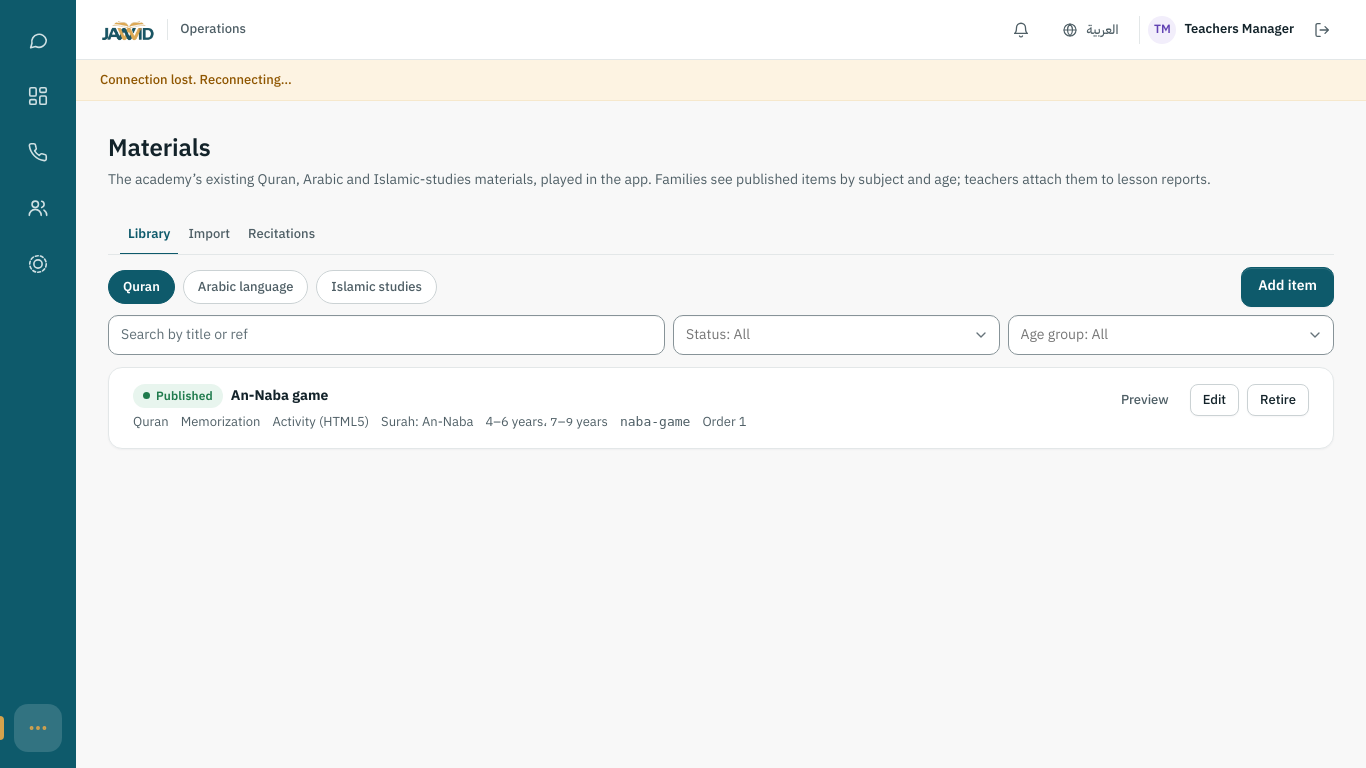
Test: Materials > Library › is offered to the Teachers manager on the server's word, and lists items with status, subject, type and ages
Expected: the heading "Materials" is shown, [108, 130, 211, 166]
Expected: the text "An-Naba game" is shown, [231, 385, 328, 407]
Click the button "Arabic language".
click(246, 287)  # box [183, 270, 308, 304]
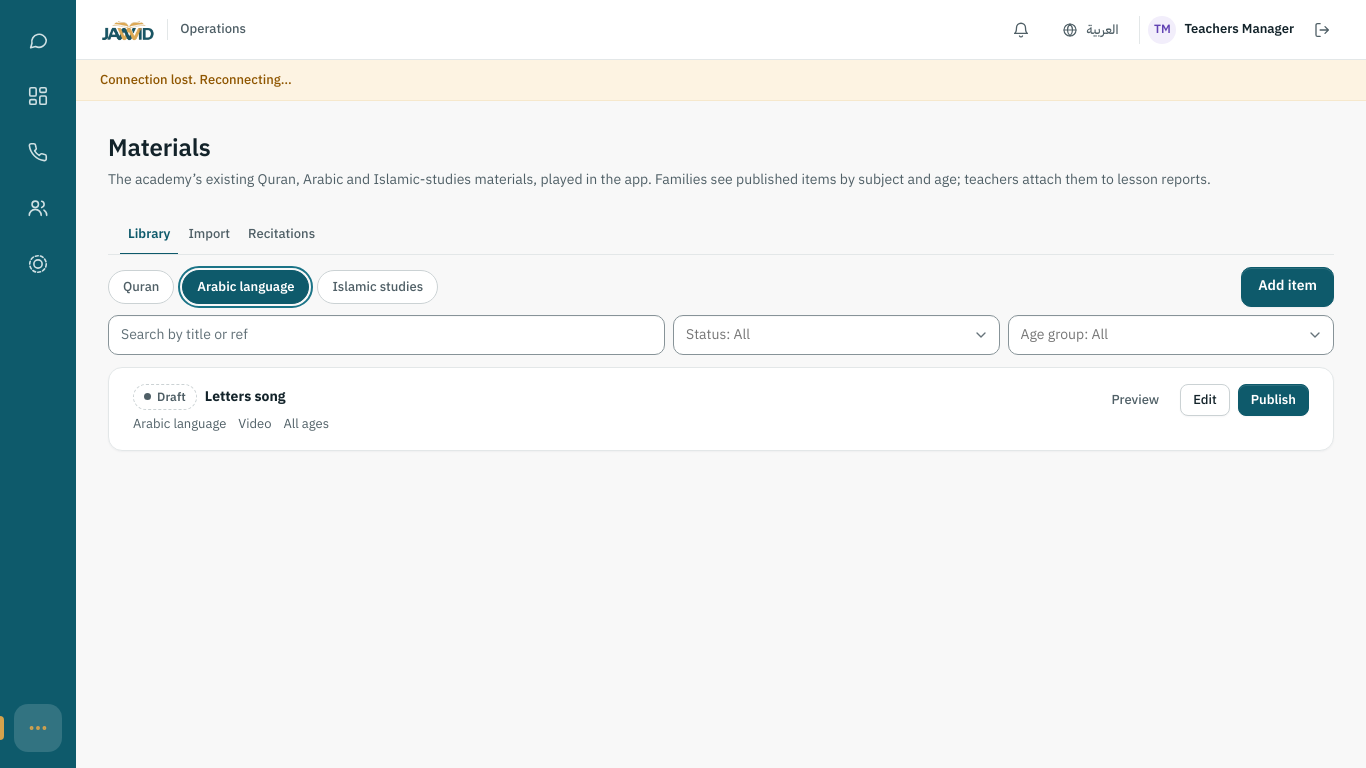
Now the text "Letters song" is shown, box [205, 386, 286, 408]
Now the text "Draft" is shown, box [133, 384, 197, 410]
Now the text "All ages" is shown, box [284, 414, 329, 434]
